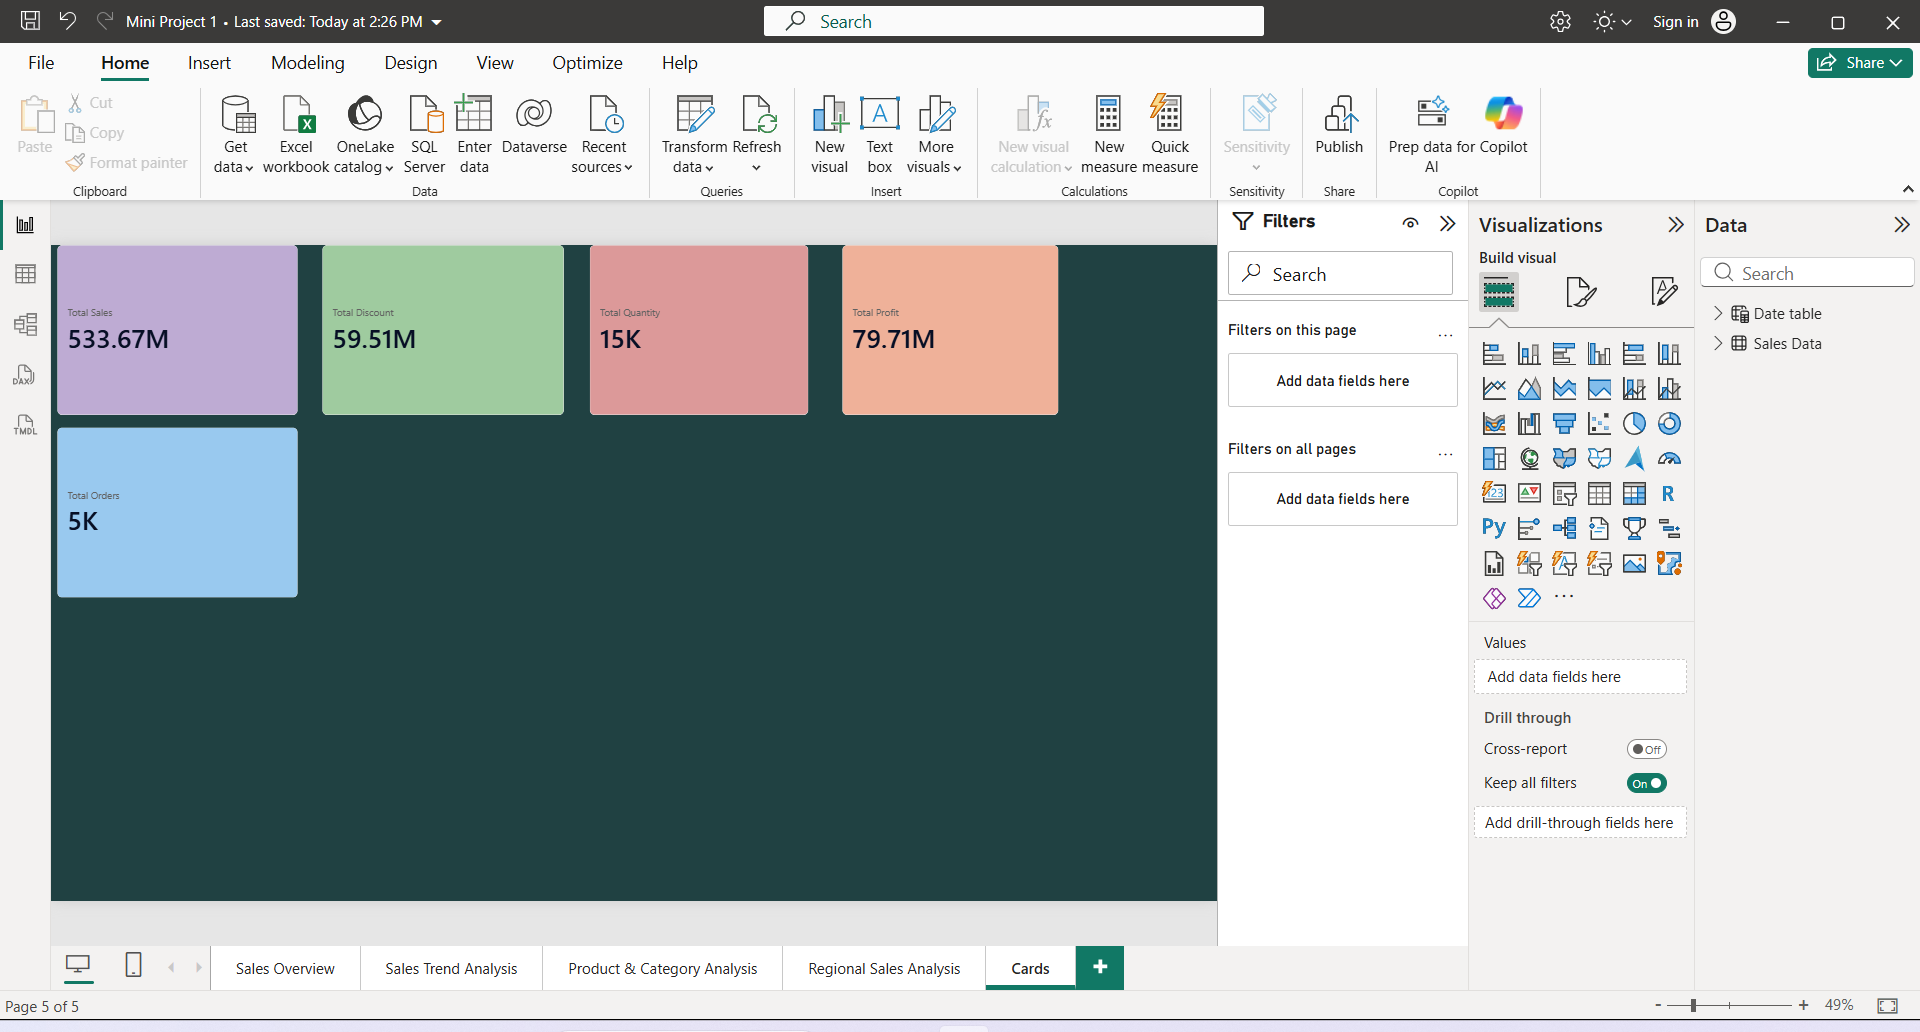

This screenshot's page, from the dashboard's own definition file:
{"tool":"powerbi","page":{"name":"Page 1","canvas":[1920,1080],"ordinal":4},"visuals":[{"type":"cardVisual","fields":{"Data":["Sales Data.Total Sales"]},"box":[10,0,396,280],"z":0},{"type":"cardVisual","fields":{"Data":["Sales Data.Total Profit"]},"box":[1302,0,356,280],"z":1},{"type":"cardVisual","fields":{"Data":["Sales Data.Total Orders"]},"box":[10,300,396,280],"z":2},{"type":"cardVisual","fields":{"Data":["Sales Data.Total Discount"]},"box":[446,0,398,280],"z":3},{"type":"cardVisual","fields":{"Data":["Sales Data.Total Quantity"]},"box":[888,0,360,280],"z":4}]}

Visuals, with their boxes on the page's 1920x1080 design canvas (x1, y1, x2, y2). These are canvas units, not pixel positions in the 1920x1032 screenshot, which may show the page scaled, cropped or inside an application window:
cardVisual - Sales Data.Total Sales: 10:0:406:280
cardVisual - Sales Data.Total Profit: 1302:0:1658:280
cardVisual - Sales Data.Total Orders: 10:300:406:580
cardVisual - Sales Data.Total Discount: 446:0:844:280
cardVisual - Sales Data.Total Quantity: 888:0:1248:280
